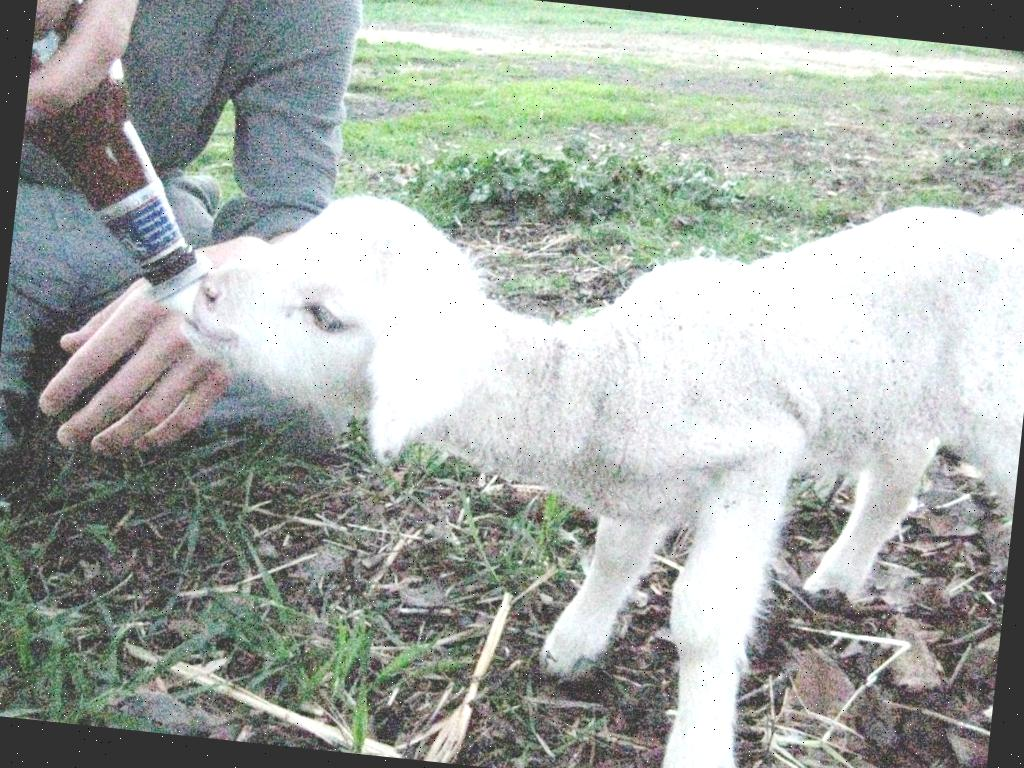Sheep: (135, 127, 1024, 768)
